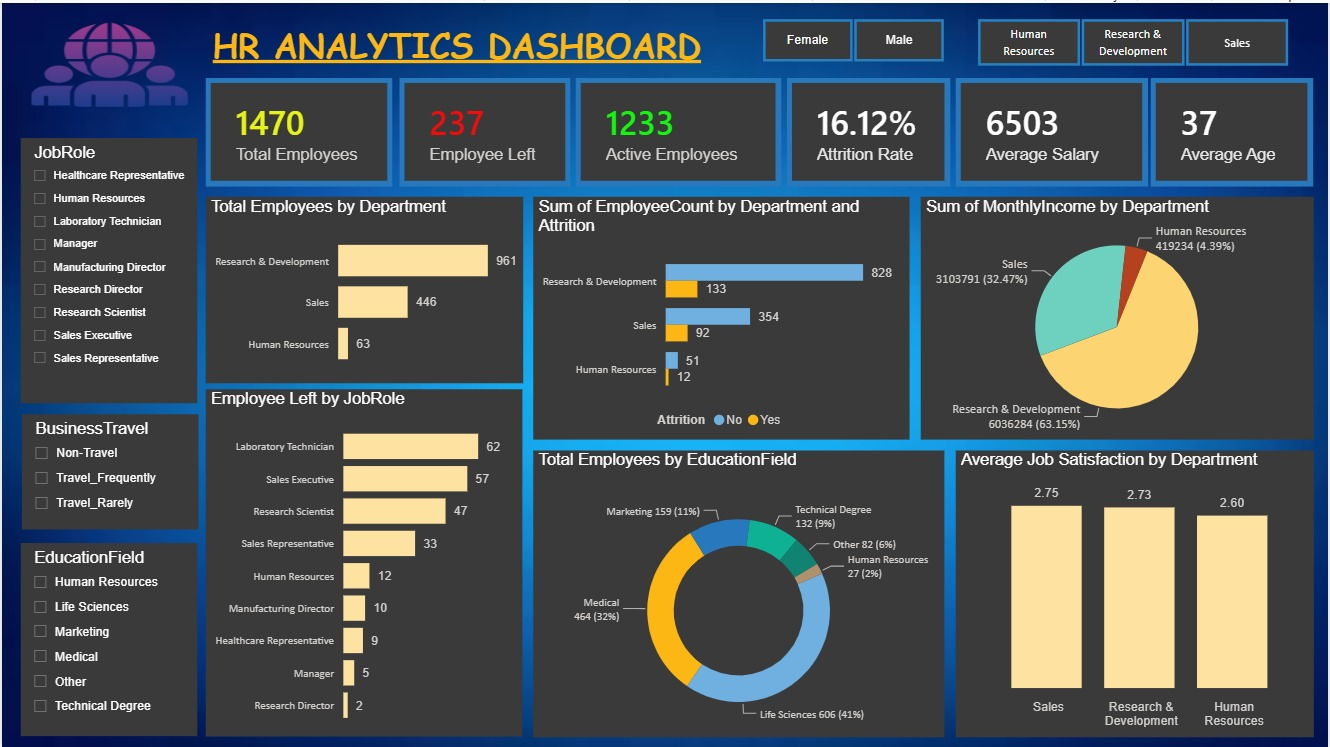

The page's visual inventory and layout, read from the dashboard file:
{"tool":"powerbi","page":{"name":"Page 1","canvas":[1280,720],"ordinal":0},"visuals":[{"type":"cardVisual","fields":{"Data":["All Measures.Total Employees"]},"box":[196.8,72.7,180,104.6],"z":0},{"type":"cardVisual","fields":{"Data":["All Measures.Employee Left"]},"box":[384,73,165.1,105],"z":1000},{"type":"cardVisual","fields":{"Data":["All Measures.Active Employees"]},"box":[554.2,73,198.4,105],"z":2000},{"type":"cardVisual","fields":{"Data":["All Measures.Attrition Rate"]},"box":[757.8,73,157.4,105],"z":3000},{"type":"cardVisual","fields":{"Data":["All Measures.Average Salary"]},"box":[920.3,73,185.6,105],"z":4000},{"type":"cardVisual","fields":{"Data":["All Measures.Average Age"]},"box":[1108.7,72.4,156.8,105],"z":5000},{"type":"clusteredBarChart","fields":{"Category":["HR-Employee-Attrition.Department"],"Y":["All Measures.Total Employees"]},"box":[196.6,187,306.4,179.8],"z":6000},{"type":"clusteredBarChart","fields":{"Category":["HR-Employee-Attrition.Department"],"Series":["HR-Employee-Attrition.Attrition"],"Y":["Sum(HR-Employee-Attrition.EmployeeCount)"]},"box":[512.7,187,363.1,234],"z":7000},{"type":"columnChart","fields":{"Category":["HR-Employee-Attrition.Department"],"Y":["All Measures.Average Job Satisfaction"]},"box":[920.3,431.4,345.6,276.5],"z":8000},{"type":"donutChart","fields":{"Category":["HR-Employee-Attrition.EducationField"],"Y":["All Measures.Total Employees"]},"box":[513.3,431.4,396.8,276.5],"z":9000},{"type":"pieChart","fields":{"Category":["HR-Employee-Attrition.Department"],"Y":["Sum(HR-Employee-Attrition.MonthlyIncome)"]},"box":[886.7,187,378.8,234],"z":10000},{"type":"barChart","fields":{"Y":["All Measures.Employee Left"],"Category":["HR-Employee-Attrition.JobRole"]},"box":[197.1,372.5,305.9,335.4],"z":11000},{"type":"textbox","box":[188.2,12.8,501.8,60.2],"z":12000},{"type":"slicer","fields":{"Values":["HR-Employee-Attrition.Department"]},"box":[915.7,8.4,349.9,55.5],"z":13000},{"type":"slicer","fields":{"Values":["HR-Employee-Attrition.Gender"]},"box":[707.6,8.8,225,55],"z":14000},{"type":"slicer","fields":{"Values":["HR-Employee-Attrition.JobRole"]},"box":[17.5,130,170,256.3],"z":15000},{"type":"slicer","fields":{"Values":["HR-Employee-Attrition.EducationField"]},"box":[17.5,521.4,170,186.3],"z":16000},{"type":"image","box":[18.8,8.8,168.8,102.5],"z":17000},{"type":"slicer","fields":{"Values":["HR-Employee-Attrition.BusinessTravel"]},"box":[18.8,396.3,170,111.3],"z":24000}]}

Visuals, with their boxes in screenshot pixels (x1, y1, x2, y2), scaled from the page's 1280x720 canvas onto the 1330x747 screenshot:
cardVisual - All Measures.Total Employees: region(204, 75, 392, 184)
cardVisual - All Measures.Employee Left: region(399, 76, 571, 185)
cardVisual - All Measures.Active Employees: region(576, 76, 782, 185)
cardVisual - All Measures.Attrition Rate: region(787, 76, 951, 185)
cardVisual - All Measures.Average Salary: region(956, 76, 1149, 185)
cardVisual - All Measures.Average Age: region(1152, 75, 1315, 184)
clusteredBarChart - HR-Employee-Attrition.Department x All Measures.Total Employees: region(204, 194, 523, 381)
clusteredBarChart - HR-Employee-Attrition.Department x HR-Employee-Attrition.Attrition: region(533, 194, 910, 437)
columnChart - HR-Employee-Attrition.Department x All Measures.Average Job Satisfaction: region(956, 448, 1315, 734)
donutChart - HR-Employee-Attrition.EducationField x All Measures.Total Employees: region(533, 448, 946, 734)
pieChart - HR-Employee-Attrition.Department x Sum(HR-Employee-Attrition.MonthlyIncome): region(921, 194, 1315, 437)
barChart - All Measures.Employee Left x HR-Employee-Attrition.JobRole: region(205, 386, 523, 734)
textbox: region(196, 13, 717, 76)
slicer - HR-Employee-Attrition.Department: region(951, 9, 1315, 66)
slicer - HR-Employee-Attrition.Gender: region(735, 9, 969, 66)
slicer - HR-Employee-Attrition.JobRole: region(18, 135, 195, 401)
slicer - HR-Employee-Attrition.EducationField: region(18, 541, 195, 734)
image: region(20, 9, 195, 115)
slicer - HR-Employee-Attrition.BusinessTravel: region(20, 411, 196, 527)
